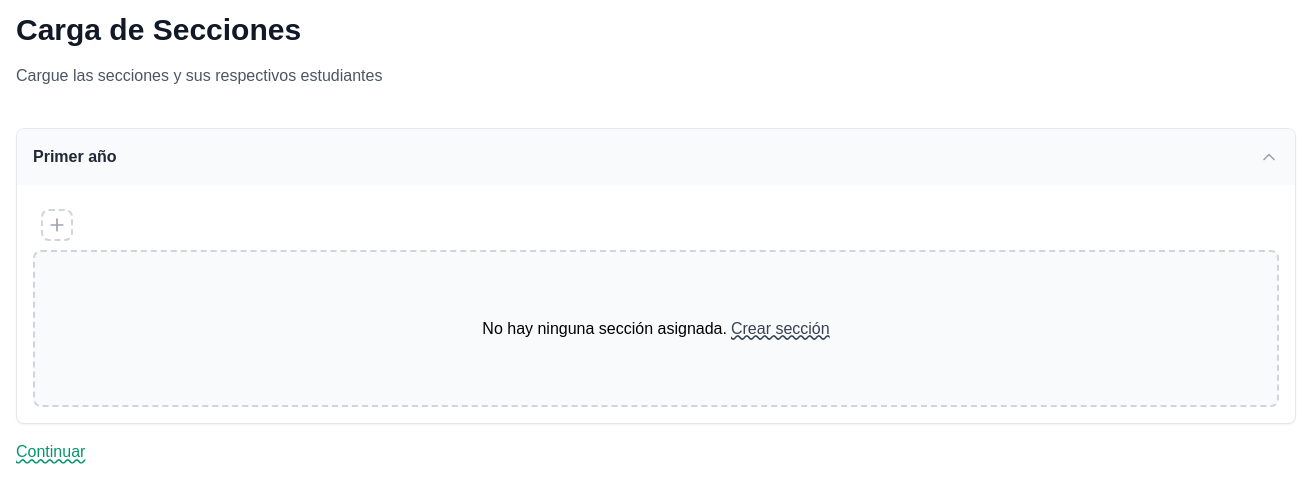
Data loading pages › creates and removes a class from the inline empty state
This screenshot has width=1313, height=481.
Click the button "Crear sección". click: (780, 328)
box: [731, 316, 830, 340]
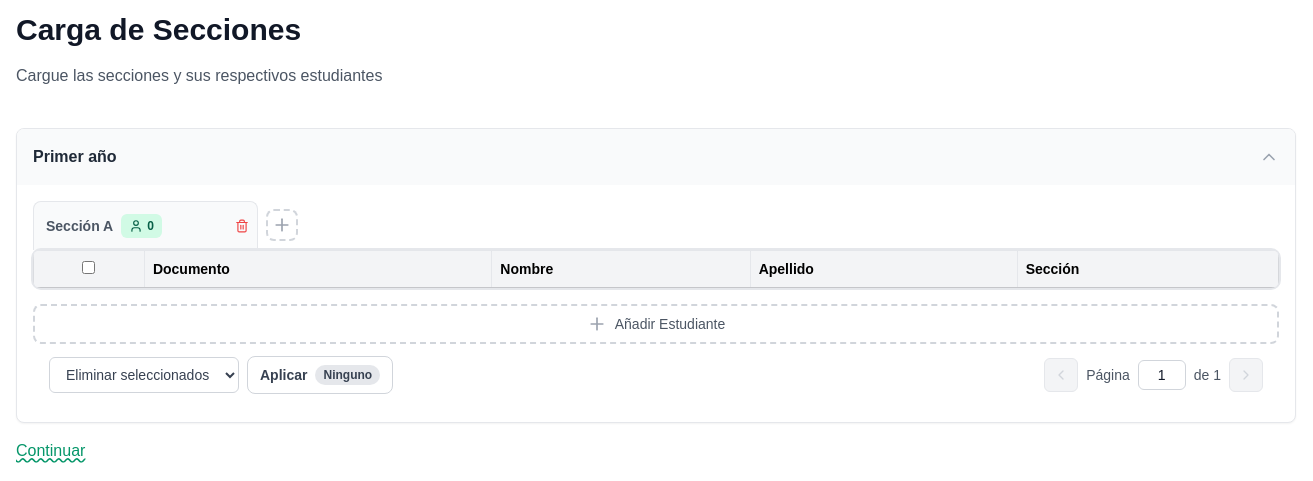
Expected: the table is shown, [33, 250, 1279, 288]
Click the button named "Eliminar sección A". click: (242, 226)
box: [231, 215, 253, 237]
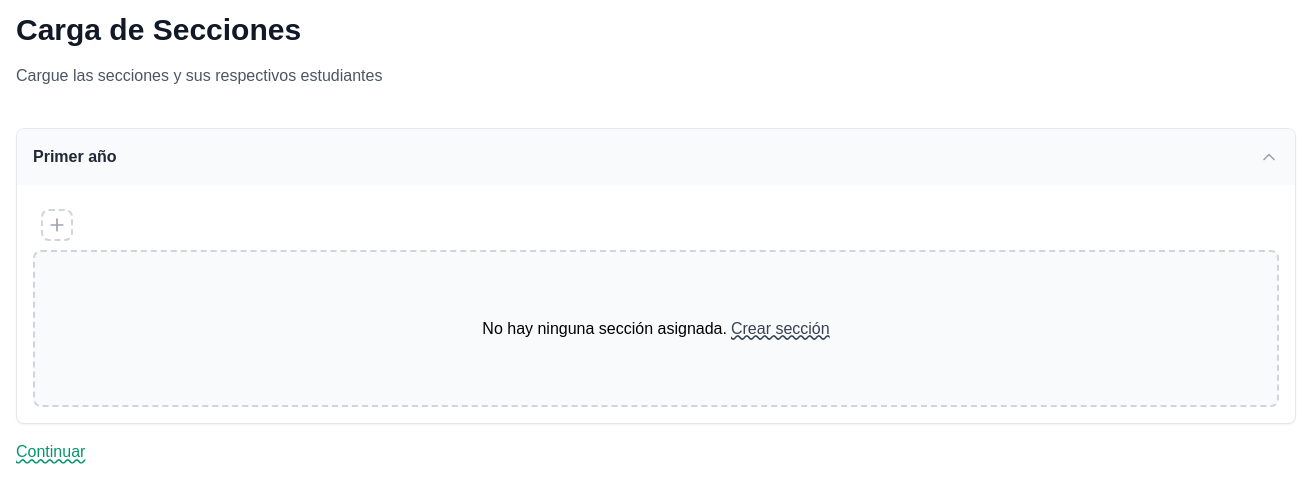
Expected: the button "Crear sección" is shown, [731, 316, 830, 340]
